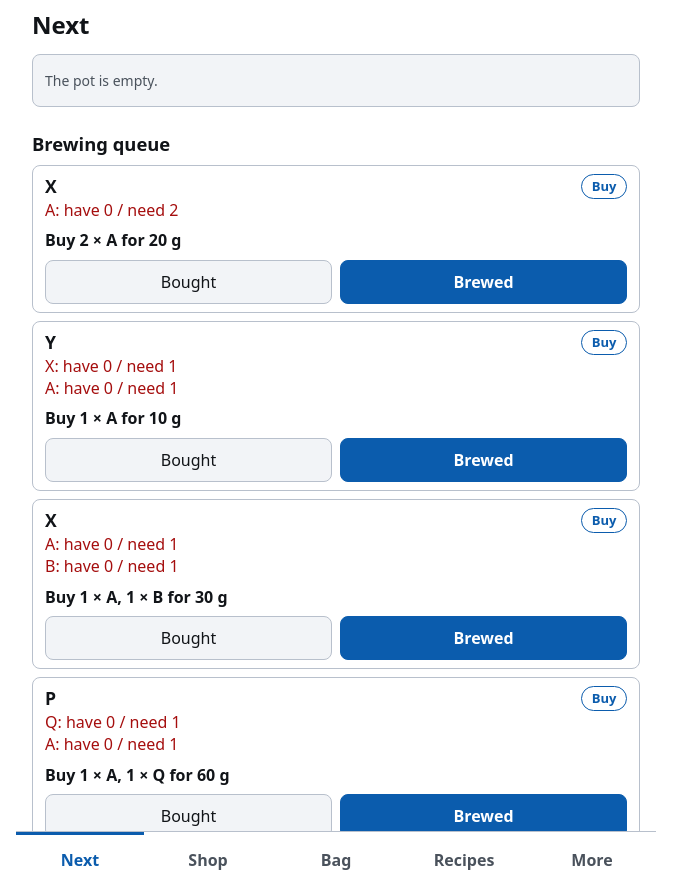
Test: Recipes › marks a recipe whose save number is unconfirmed, and no other
What coordinates should you click on to do the following:
click the button "Recipes"
I would click on:
 (464, 860)
Its box is [400,832,528,887].
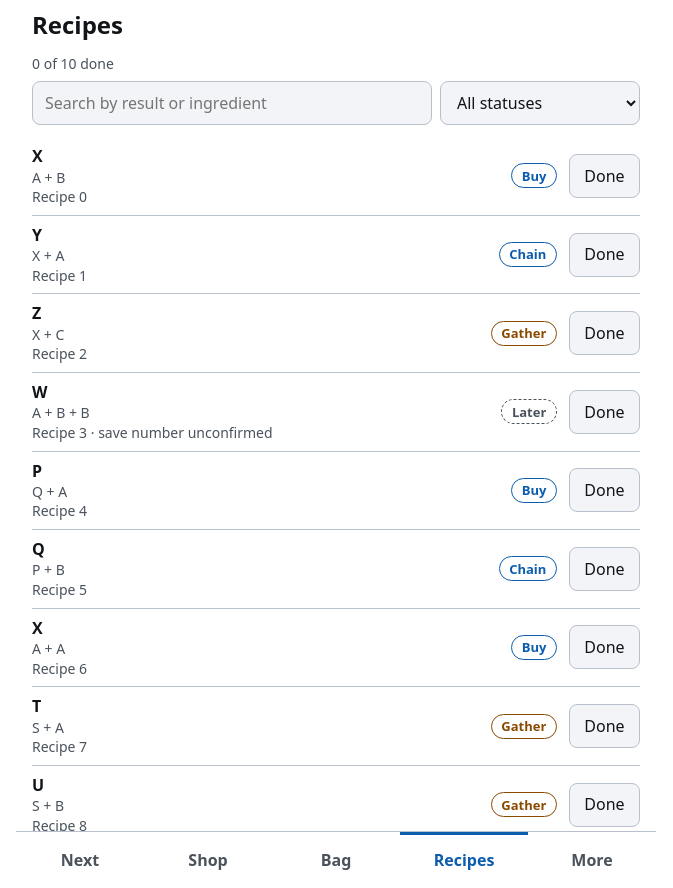
Check: the button with aria-label "Done: W (recipe 3)" is shown, box [569,390,640,434]
